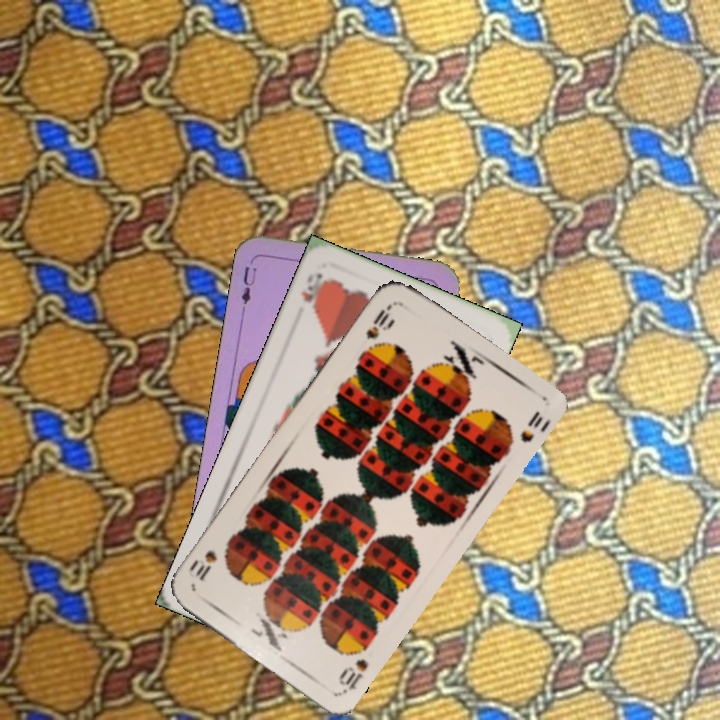EU: (237, 262, 259, 307)
HO: (297, 268, 329, 316)
S10: (361, 300, 398, 342), (334, 654, 371, 695)
